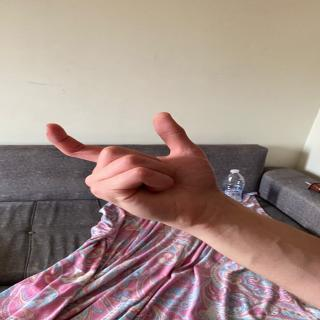NOON: (22, 108, 245, 228)
